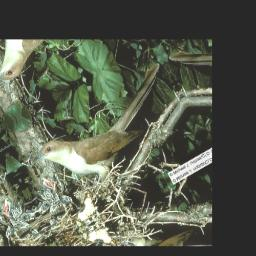Cuckoo: (21, 61, 191, 207)
